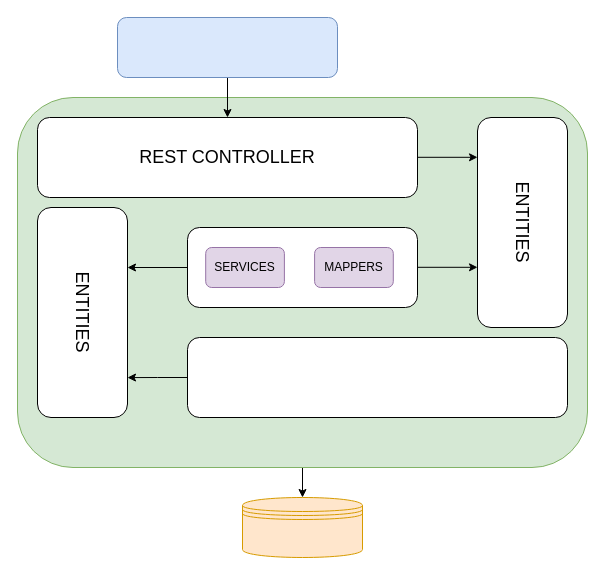
Image size: 605x575. Some labels were removed from this diagram. Each missing label, with the centre of its shape:
JPA REPOSITORY: (x=377, y=377)
MongoDB: (x=302, y=527)
REST APIs: (x=227, y=47)
